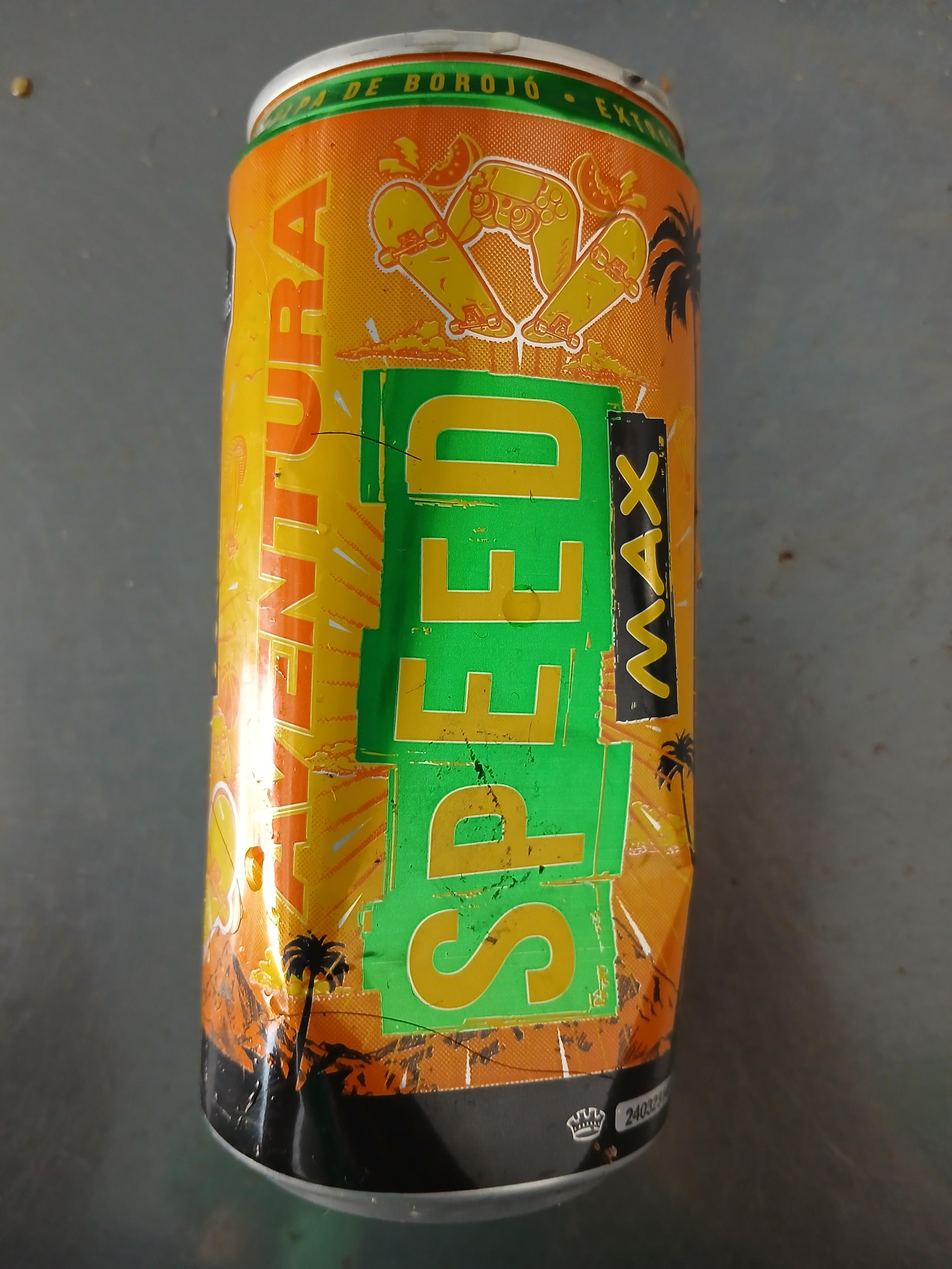Metal: (200, 28, 692, 1232)
